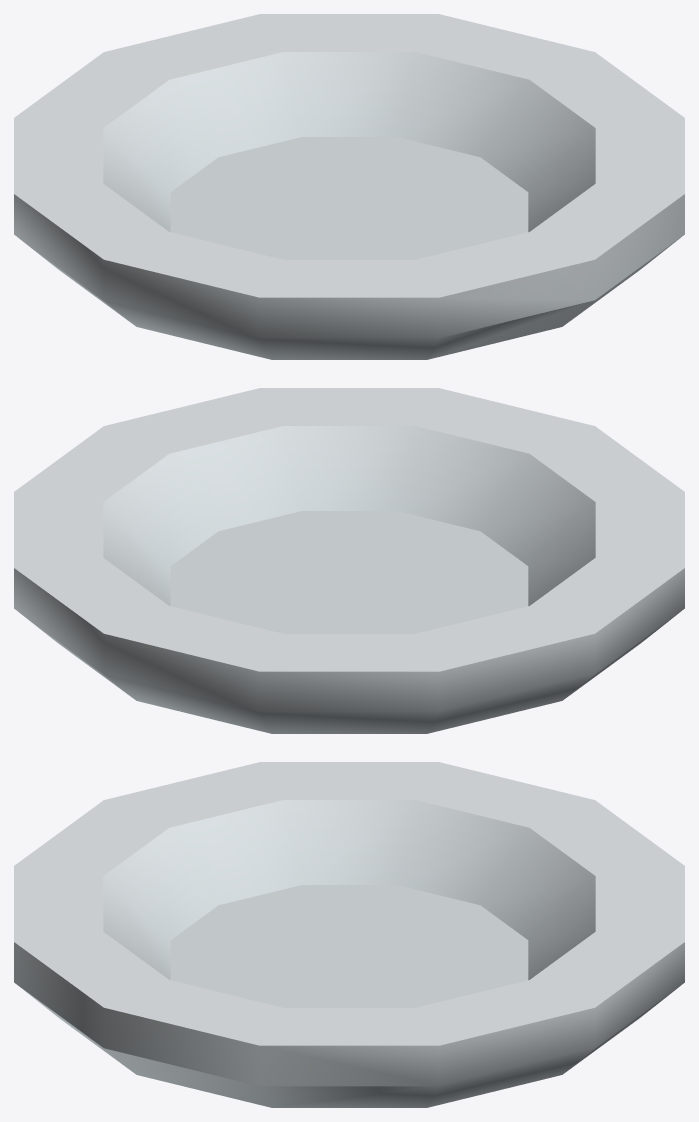
File: plate_small.obj
The picture shows the model from 3 angles, top to bottom: view 1: azimuth 30°, elevation 25°; view 2: azimuth 150°, elevation 25°; view 3: azimuth 270°, elevation 25°; orthographic projection.
Parts seen in each view (by area): view 1: plate_small_Cylinder.567; view 2: plate_small_Cylinder.567; view 3: plate_small_Cylinder.567.
Boxes of the visible parts, x1,y1,x2,y2 form: plate_small_Cylinder.567: (14, 14, 684, 359); plate_small_Cylinder.567: (14, 388, 684, 733); plate_small_Cylinder.567: (14, 762, 684, 1107).
Size of the model in its own units: 0.75 by 0.1 by 0.75.
1 material, 1 textured.
